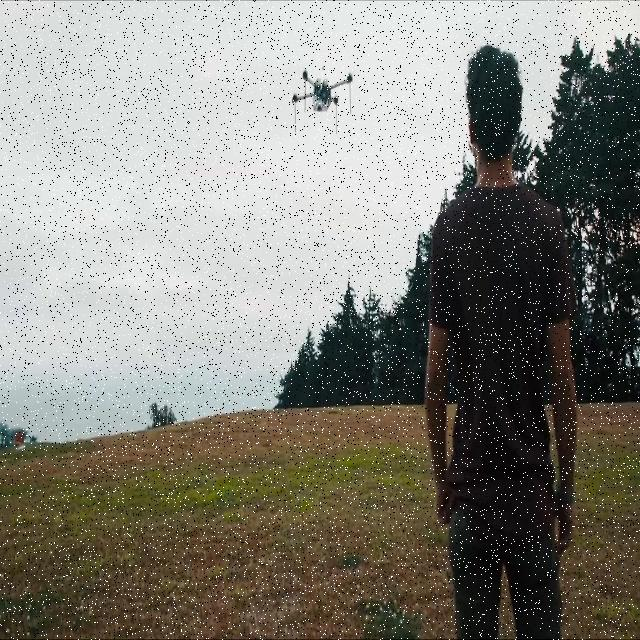UAV: (292, 66, 353, 132)
